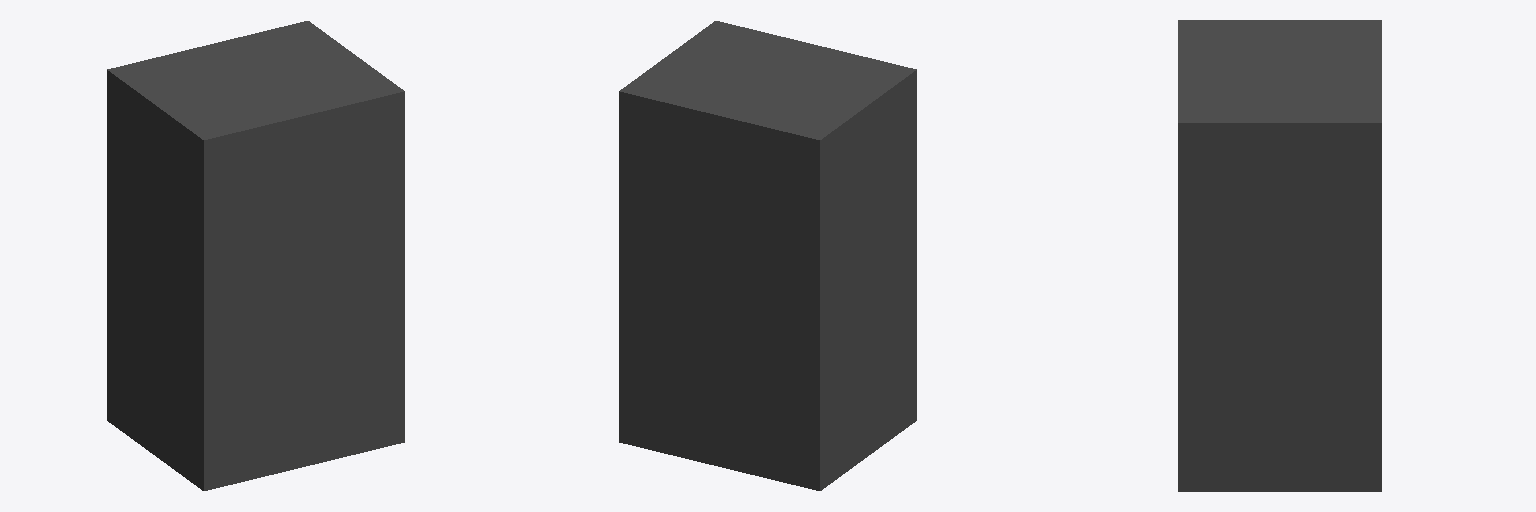
The robot description file, URDF, robot "panda_nt":
<?xml version='1.0' encoding='utf-8'?>
<robot name="panda_nt">

    <link name="basket">
      <inertial>
        <origin xyz="0 0 0" rpy="0 0 0" />
        <mass value="5" />
        <inertia ixx="1" iyy="1" izz="1" ixy="0" ixz="0" iyz="0" />
      </inertial>
      <visual>
        <origin xyz="0 0 0.7" rpy="0 0 0" />
        <geometry>
          <box size="0.6 0.5 1.0"/>
        </geometry>
        <material name="material_basket">
          <color rgba="0.35 0.35 0.35 1.0" />
      </material>
      </visual>
    </link>

<!--   LEFT ARM     -->

    <link name="left_arm_link1">
      <inertial>
        <origin xyz="0 0 -0.07" rpy="0 -0 0" />
        <mass value="3" />
        <inertia ixx="0.3" iyy="0.3" izz="0.3" ixy="0" ixz="0" iyz="0" />
      </inertial>
      <visual>
        <geometry>
          <mesh filename="../../../Model/meshes/visual/link1.obj"/>
        </geometry>
      </visual>
    </link>
    <link name="left_arm_link2">
      <inertial>
        <origin xyz="0 -0.1 0" rpy="0 -0 0" />
        <mass value="3" />
        <inertia ixx="0.3" iyy="0.3" izz="0.3" ixy="0" ixz="0" iyz="0" />
      </inertial>
      <visual>
        <geometry>
          <mesh filename="../../../Model/meshes/visual/link2.obj"/>
        </geometry>
      </visual>
    </link>
    <link name="left_arm_link3">
      <inertial>
        <origin xyz="0.04 0 -0.05" rpy="0 -0 0" />
        <mass value="2" />
        <inertia ixx="0.2" iyy="0.2" izz="0.2" ixy="0" ixz="0" iyz="0" />
      </inertial>
      <visual>
        <geometry>
          <mesh filename="../../../Model/meshes/visual/link3.obj"/>
        </geometry>
      </visual>
    </link>
    <link name="left_arm_link4">
      <inertial>
        <origin xyz="-0.04 0.05 0" rpy="0 -0 0" />
        <mass value="2" />
        <inertia ixx="0.2" iyy="0.2" izz="0.2" ixy="0" ixz="0" iyz="0" />
      </inertial>
      <visual>
        <geometry>
          <mesh filename="../../../Model/meshes/visual/link4.obj"/>
        </geometry>
      </visual>
    </link>
    <link name="left_arm_link5">
      <inertial>
        <origin xyz="0 0 -0.15" rpy="0 -0 0" />
        <mass value="2" />
        <inertia ixx="0.2" iyy="0.2" izz="0.2" ixy="0" ixz="0" iyz="0" />
      </inertial>
      <visual>
        <geometry>
          <mesh filename="../../../Model/meshes/visual/link5.obj"/>
        </geometry>
      </visual>
    </link>
    <link name="left_arm_link6">
      <inertial>
        <origin xyz="0.06 0 0" rpy="0 -0 0" />
        <mass value="1.5" />
        <inertia ixx="0.1" iyy="0.1" izz="0.1" ixy="0" ixz="0" iyz="0" />
      </inertial>
      <visual>
        <geometry>
          <mesh filename="../../../Model/meshes/visual/link6.obj"/>
        </geometry>
      </visual>
    </link>
    <link name="left_arm_link7">
      <inertial>
        <origin xyz="0 0 0.17" rpy="0 -0 0" />
        <mass value="1.8" />
        <inertia ixx="0.09" iyy="0.05" izz="0.07" ixy="0" ixz="0" iyz="0" />
      </inertial>
      <visual>
        <geometry>
          <mesh filename="../../../Model/meshes/visual/link7.obj"/>
        </geometry>
      </visual>
      <visual>
        <origin xyz="0 0 0.107" rpy="0 0 -0.78539816339" />
        <geometry>
          <mesh filename="../../../Model/meshes/visual/hand.obj"/>
        </geometry>
      </visual>
    </link>
<!--     <link name="left_arm_leftfinger">
      <inertial>
        <origin xyz="0 0 0.05" rpy="0 -0 0" />
        <mass value="0.1" />
        <inertia ixx="0.01" iyy="0.01" izz="0.005" ixy="0" ixz="0" iyz="0" />
      </inertial>
      <visual>
        <geometry>
          <mesh filename="../../../Model/meshes/visual/finger.obj"/>
        </geometry>
      </visual>
    </link>
    <link name="left_arm_rightfinger">
      <inertial>
        <origin xyz="0 0 0.05" rpy="0 -0 0" />
        <mass value="0.1" />
        <inertia ixx="0.01" iyy="0.01" izz="0.005" ixy="0" ixz="0" iyz="0" />
      </inertial>
      <visual>
        <origin xyz="0 0 0" rpy="0 0 3.14159265359" />
        <geometry>
          <mesh filename="../../../Model/meshes/visual/finger.obj"/>
        </geometry>
      </visual>
    </link> -->

<!--   RIGHT ARM     -->

    <link name="right_arm_link1">
      <inertial>
        <origin xyz="0 0 -0.07" rpy="0 -0 0" />
        <mass value="3" />
        <inertia ixx="0.3" iyy="0.3" izz="0.3" ixy="0" ixz="0" iyz="0" />
      </inertial>
      <visual>
        <geometry>
          <mesh filename="../../../Model/meshes/visual/link1.obj"/>
        </geometry>
      </visual>
    </link>
    <link name="right_arm_link2">
      <inertial>
        <origin xyz="0 -0.1 0" rpy="0 -0 0" />
        <mass value="3" />
        <inertia ixx="0.3" iyy="0.3" izz="0.3" ixy="0" ixz="0" iyz="0" />
      </inertial>
      <visual>
        <geometry>
          <mesh filename="../../../Model/meshes/visual/link2.obj"/>
        </geometry>
      </visual>
    </link>
    <link name="right_arm_link3">
      <inertial>
        <origin xyz="0.04 0 -0.05" rpy="0 -0 0" />
        <mass value="2" />
        <inertia ixx="0.2" iyy="0.2" izz="0.2" ixy="0" ixz="0" iyz="0" />
      </inertial>
      <visual>
        <geometry>
          <mesh filename="../../../Model/meshes/visual/link3.obj"/>
        </geometry>
      </visual>
    </link>
    <link name="right_arm_link4">
      <inertial>
        <origin xyz="-0.04 0.05 0" rpy="0 -0 0" />
        <mass value="2" />
        <inertia ixx="0.2" iyy="0.2" izz="0.2" ixy="0" ixz="0" iyz="0" />
      </inertial>
      <visual>
        <geometry>
          <mesh filename="../../../Model/meshes/visual/link4.obj"/>
        </geometry>
      </visual>
    </link>
    <link name="right_arm_link5">
      <inertial>
        <origin xyz="0 0 -0.15" rpy="0 -0 0" />
        <mass value="2" />
        <inertia ixx="0.2" iyy="0.2" izz="0.2" ixy="0" ixz="0" iyz="0" />
      </inertial>
      <visual>
        <geometry>
          <mesh filename="../../../Model/meshes/visual/link5.obj"/>
        </geometry>
      </visual>
    </link>
    <link name="right_arm_link6">
      <inertial>
        <origin xyz="0.06 0 0" rpy="0 -0 0" />
        <mass value="1.5" />
        <inertia ixx="0.1" iyy="0.1" izz="0.1" ixy="0" ixz="0" iyz="0" />
      </inertial>
      <visual>
        <geometry>
          <mesh filename="../../../Model/meshes/visual/link6.obj"/>
        </geometry>
      </visual>
    </link>
    <link name="right_arm_link7">
      <inertial>
        <origin xyz="0 0 0.17" rpy="0 -0 0" />
        <mass value="1.8" />
        <inertia ixx="0.09" iyy="0.05" izz="0.07" ixy="0" ixz="0" iyz="0" />
      </inertial>
      <visual>
        <geometry>
          <mesh filename="../../../Model/meshes/visual/link7.obj"/>
        </geometry>
      </visual>
      <visual>
        <origin xyz="0 0 0.107" rpy="0 0 -0.78539816339" />
        <geometry>
          <mesh filename="../../../Model/meshes/visual/hand.obj"/>
        </geometry>
      </visual>
      <visual>
        <origin xyz="0.005 0.005 0.1654" rpy="0 0 -0.78539816339"/>
        <geometry>
          <mesh filename="../../../Model/meshes/visual/finger.obj"/>
        </geometry>
      </visual>
      <visual>
        <origin xyz="-0.005 -0.005 0.1654" rpy="0 0 2.35619449019"/>
        <geometry>
          <mesh filename="../../../Model/meshes/visual/finger.obj"/>
        </geometry>
      </visual>
      <visual>
        <origin xyz="0.08 -0.08 0.21" rpy="0 0 0.785398"/>
        <geometry>
          <mesh filename="../../../Model/objects/Assemble_tool/wrench.obj" scale="1.7 1.7 1.7" />
        </geometry>
      </visual>
      <collision>
        <origin xyz="0.075 -0.075 0.21" rpy="0 0 -0.785398"/>
        <geometry>
          <box size="0.01 0.01 0.06" />
        </geometry>
      </collision>
    </link>


<!--    JOINTS     -->

<!--   LEFT ARM JOINT     -->

    <joint name="left_arm_joint1" type="revolute">
      <safety_controller k_position="100.0" k_velocity="40.0" soft_lower_limit="-2.8973" soft_upper_limit="2.8973"/>
      <origin rpy="-1.57079632679 0 -2.35619" xyz="0.4 -0.3 0.9"/>
      <parent link="basket"/>
      <child link="left_arm_link1"/>
      <axis xyz="0 0 1"/>
      <limit effort="87" lower="-2.8973" upper="2.8973" velocity="2.1750"/>
    </joint>
    <joint name="left_arm_joint2" type="revolute">
      <safety_controller k_position="100.0" k_velocity="40.0" soft_lower_limit="-1.7628" soft_upper_limit="1.7628"/>
      <origin rpy="-1.57079632679 0 0" xyz="0 0 0"/>
      <parent link="left_arm_link1"/>
      <child link="left_arm_link2"/>
      <axis xyz="0 0 1"/>
      <calibration falling="15.0" />
      <limit effort="87" lower="-1.7628" upper="1.7628" velocity="2.1750"/>
    </joint>
    <joint name="left_arm_joint3" type="revolute">
      <safety_controller k_position="100.0" k_velocity="40.0" soft_lower_limit="-2.8973" soft_upper_limit="2.8973"/>
      <origin rpy="1.57079632679 0 0" xyz="0 -0.316 0"/>
      <parent link="left_arm_link2"/>
      <child link="left_arm_link3"/>
      <axis xyz="0 0 1"/>
      <limit effort="87" lower="-2.8973" upper="2.8973" velocity="2.1750"/>
    </joint>
    <joint name="left_arm_joint4" type="revolute">
      <safety_controller k_position="100.0" k_velocity="40.0" soft_lower_limit="-3.0718" soft_upper_limit="-0.0698"/>
      <origin rpy="1.57079632679 0 0" xyz="0.0825 0 0"/>
      <parent link="left_arm_link3"/>
      <child link="left_arm_link4"/>
      <axis xyz="0 0 1"/>
      <calibration falling="-65.0" />
      <limit effort="87" lower="-3.0718" upper="-0.0698" velocity="2.1750"/>
    </joint>
    <joint name="left_arm_joint5" type="revolute">
      <safety_controller k_position="100.0" k_velocity="40.0" soft_lower_limit="-2.8973" soft_upper_limit="2.8973"/>
      <origin rpy="-1.57079632679 0 0" xyz="-0.0825 0.384 0"/>
      <parent link="left_arm_link4"/>
      <child link="left_arm_link5"/>
      <axis xyz="0 0 1"/>
      <limit effort="12" lower="-2.8973" upper="2.8973" velocity="2.6100"/>
    </joint>
    <joint name="left_arm_joint6" type="revolute">
      <safety_controller k_position="100.0" k_velocity="40.0" soft_lower_limit="-0.0175" soft_upper_limit="3.7525"/>
      <origin rpy="1.57079632679 0 0" xyz="0 0 0"/>
      <parent link="left_arm_link5"/>
      <child link="left_arm_link6"/>
      <axis xyz="0 0 1"/>
      <calibration falling="115.0" />
      <limit effort="12" lower="-0.0175" upper="3.7525" velocity="2.6100"/>
    </joint>
    <joint name="left_arm_joint7" type="revolute">
      <safety_controller k_position="100.0" k_velocity="40.0" soft_lower_limit="-2.8973" soft_upper_limit="2.8973"/>
      <origin rpy="1.57079632679 0 0" xyz="0.088 0 0"/>
      <parent link="left_arm_link6"/>
      <child link="left_arm_link7"/>
      <axis xyz="0 0 1"/>
      <limit effort="12" lower="-2.8973" upper="2.8973" velocity="2.6100"/>
    </joint>
<!--     <joint name="left_arm_finger_joint1" type="prismatic">
      <parent link="left_arm_link7"/>
      <child link="left_arm_leftfinger"/>
      <origin xyz="0 0 0.1654" rpy="0 0 -0.78539816339"/>
      <axis xyz="0 1 0"/>
      <calibration rising="0.02" />
      <limit effort="20" lower="0.0" upper="0.04" velocity="0.2"/>
    </joint>
    <joint name="left_arm_finger_joint2" type="prismatic">
      <parent link="left_arm_link7"/>
      <child link="left_arm_rightfinger"/>
      <origin xyz="0 0 0.1654" rpy="0 0 -0.78539816339"/>
      <axis xyz="0 1 0"/>
      <calibration rising="-0.02" />
      <limit effort="20" lower="0.0" upper="0.04" velocity="0.2"/>
    </joint> -->

<!--   RIGHT ARM JOINT     -->

    <joint name="right_arm_joint1" type="revolute">
      <safety_controller k_position="100.0" k_velocity="40.0" soft_lower_limit="-2.8973" soft_upper_limit="2.8973"/>
      <origin rpy="1.57079632679 0 -0.785398" xyz="-0.4 -0.3 0.9"/>
      <parent link="basket"/>
      <child link="right_arm_link1"/>
      <axis xyz="0 0 1"/>
      <limit effort="87" lower="-2.8973" upper="2.8973" velocity="2.1750"/>
    </joint>
    <joint name="right_arm_joint2" type="revolute">
      <safety_controller k_position="100.0" k_velocity="40.0" soft_lower_limit="-1.7628" soft_upper_limit="1.7628"/>
      <origin rpy="-1.57079632679 0 0" xyz="0 0 0"/>
      <parent link="right_arm_link1"/>
      <child link="right_arm_link2"/>
      <axis xyz="0 0 1"/>
      <calibration falling="15.0" />
      <limit effort="87" lower="-1.7628" upper="1.7628" velocity="2.1750"/>
    </joint>
    <joint name="right_arm_joint3" type="revolute">
      <safety_controller k_position="100.0" k_velocity="40.0" soft_lower_limit="-2.8973" soft_upper_limit="2.8973"/>
      <origin rpy="1.57079632679 0 0" xyz="0 -0.316 0"/>
      <parent link="right_arm_link2"/>
      <child link="right_arm_link3"/>
      <axis xyz="0 0 1"/>
      <limit effort="87" lower="-2.8973" upper="2.8973" velocity="2.1750"/>
    </joint>
    <joint name="right_arm_joint4" type="revolute">
      <safety_controller k_position="100.0" k_velocity="40.0" soft_lower_limit="-3.0718" soft_upper_limit="-0.0698"/>
      <origin rpy="1.57079632679 0 0" xyz="0.0825 0 0"/>
      <parent link="right_arm_link3"/>
      <child link="right_arm_link4"/>
      <axis xyz="0 0 1"/>
      <calibration falling="-75.0" />
      <limit effort="87" lower="-3.0718" upper="-0.0698" velocity="2.1750"/>
    </joint>
    <joint name="right_arm_joint5" type="revolute">
      <safety_controller k_position="100.0" k_velocity="40.0" soft_lower_limit="-2.8973" soft_upper_limit="2.8973"/>
      <origin rpy="-1.57079632679 0 0" xyz="-0.0825 0.384 0"/>
      <parent link="right_arm_link4"/>
      <child link="right_arm_link5"/>
      <axis xyz="0 0 1"/>
      <calibration falling="-90.0" />
      <limit effort="12" lower="-2.8973" upper="2.8973" velocity="2.6100"/>
    </joint>
    <joint name="right_arm_joint6" type="revolute">
      <safety_controller k_position="100.0" k_velocity="40.0" soft_lower_limit="-0.0175" soft_upper_limit="3.7525"/>
      <origin rpy="1.57079632679 0 0" xyz="0 0 0"/>
      <parent link="right_arm_link5"/>
      <child link="right_arm_link6"/>
      <axis xyz="0 0 1"/>
      <calibration falling="125.0" />
      <limit effort="12" lower="-0.0175" upper="3.7525" velocity="2.6100"/>
    </joint>
    <joint name="right_arm_joint7" type="revolute">
      <safety_controller k_position="100.0" k_velocity="40.0" soft_lower_limit="-2.8973" soft_upper_limit="2.8973"/>
      <origin rpy="1.57079632679 0 0" xyz="0.088 0 0"/>
      <parent link="right_arm_link6"/>
      <child link="right_arm_link7"/>
      <axis xyz="0 0 1"/>
      <limit effort="12" lower="-2.8973" upper="2.8973" velocity="2.6100"/>
    </joint>


</robot>

--- Render facts (derived) ---
3 views of the same robot in one strip: view 1: azimuth 30°, elevation 25°; view 2: azimuth 150°, elevation 25°; view 3: azimuth 270°, elevation 25° (orthographic).
Robot: panda_nt — 15 links, 14 joints (14 revolute); root link basket; default pose: joints at zero except 2 at the middle of their limits (left_arm_joint4 = -1.57, right_arm_joint4 = -1.57).
Links seen in each view (by area): view 1: basket; view 2: basket; view 3: basket.
Link boxes in pixels (x1=…): basket: x1=107, y1=21, x2=404, y2=490; basket: x1=619, y1=21, x2=916, y2=490; basket: x1=1178, y1=20, x2=1381, y2=491.
Bounding box of the posed robot: 0.6 × 0.5 × 1 m (x, y, z).
Geometry: only primitive shapes (box / cylinder / sphere) drawn; not drawn: 19 mesh visuals (reference in a form the renderer does not follow).